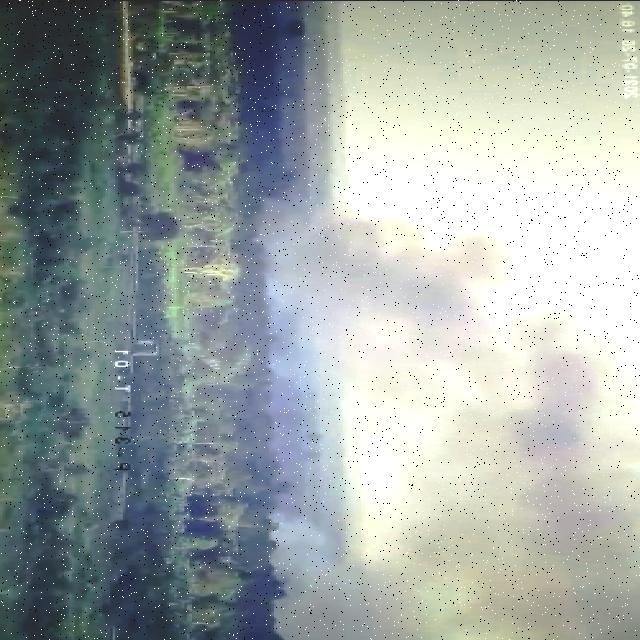asap: (244, 193, 640, 640), (257, 504, 449, 640)
